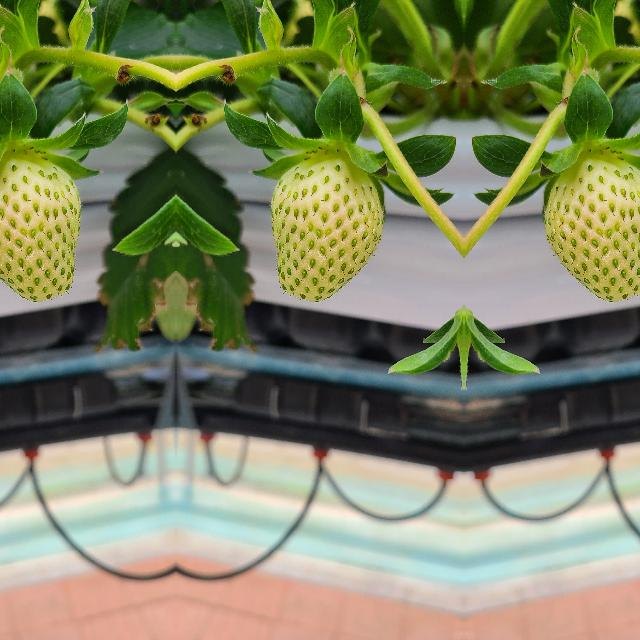Health_25: (266, 152, 384, 304), (542, 151, 640, 304), (0, 151, 84, 304)
